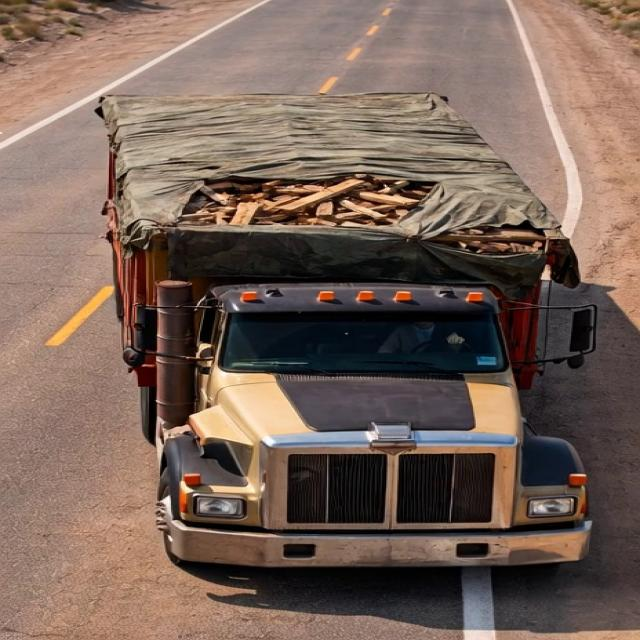Box: (90, 89, 562, 256)
Truck: (82, 55, 602, 559)
